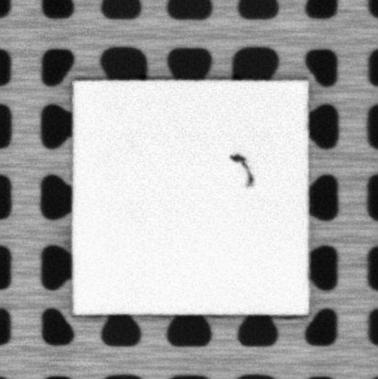DIE_INK: (229, 152, 256, 188)
